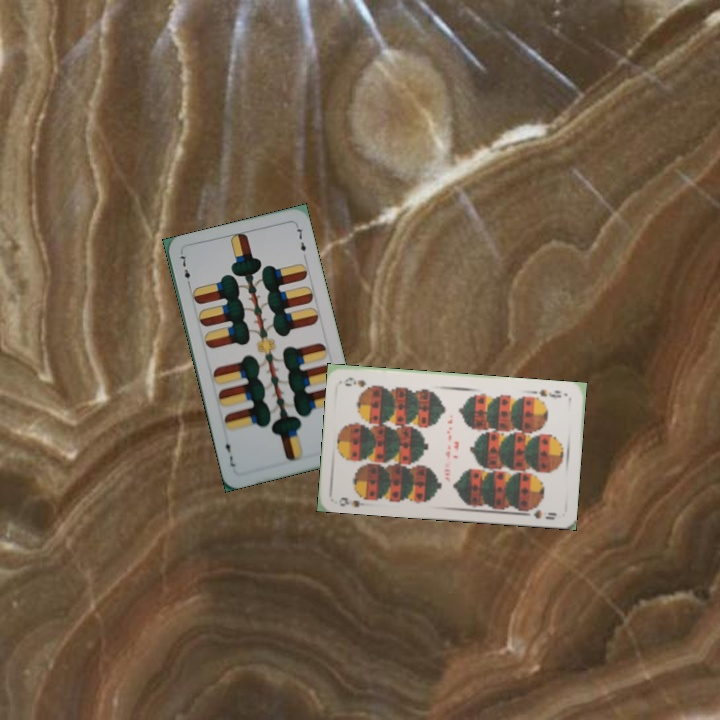E7: (176, 250, 194, 290)
S9: (336, 490, 373, 510), (535, 385, 564, 402)
